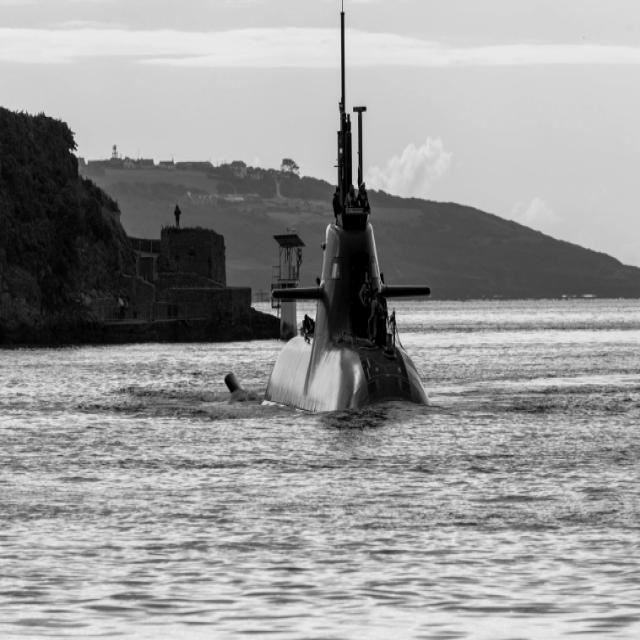submarine: (223, 208, 434, 411)
